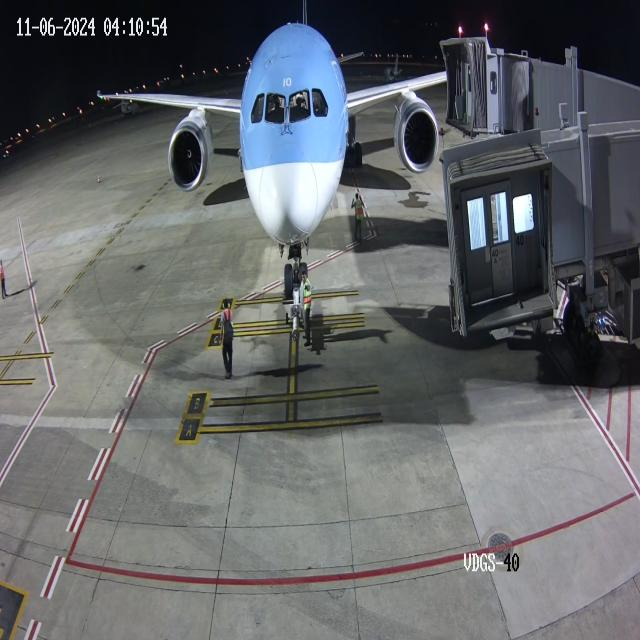bridge: (469, 31, 541, 142)
plane: (86, 0, 430, 301)
window: (248, 83, 331, 132)
